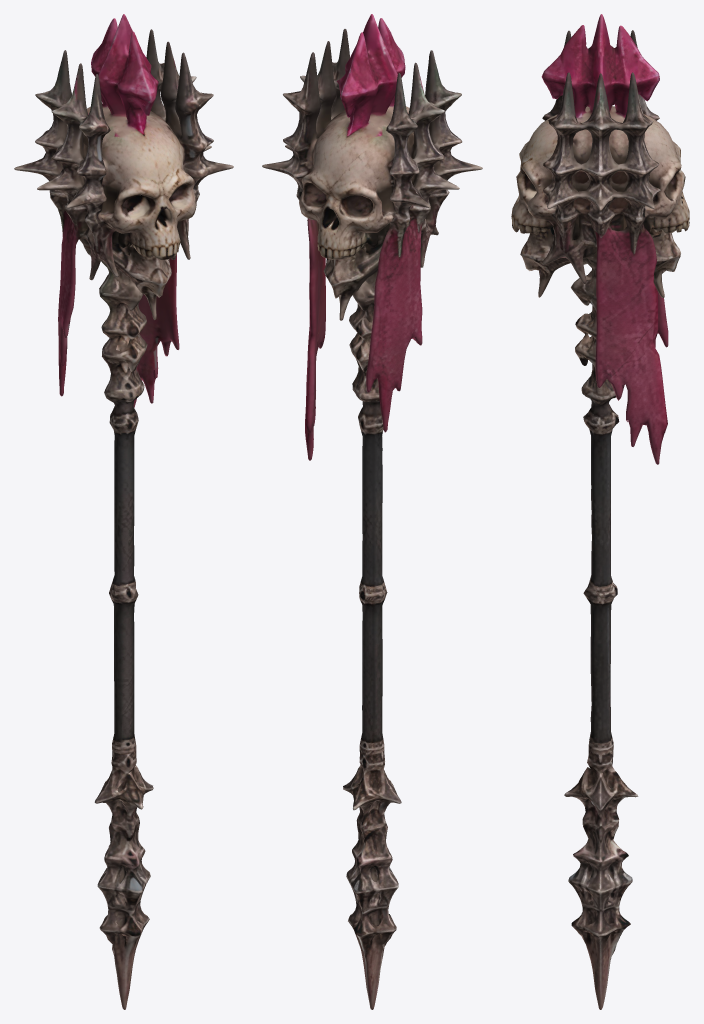
File: commander_weapon.obj
3 renders of one model, left to right at view 1: azimuth 30°, elevation 25°; view 2: azimuth 150°, elevation 25°; view 3: azimuth 270°, elevation 25°, orthographic.
Visible parts, largest first — view 1: commander_weapon; view 2: commander_weapon; view 3: commander_weapon.
Part boxes in pixels (x1=…): commander_weapon: x1=14, y1=14, x2=233, y2=1009; commander_weapon: x1=262, y1=14, x2=482, y2=1009; commander_weapon: x1=511, y1=14, x2=689, y2=1009.
Size of the model in its own units: 0.1803 by 0.9821 by 0.1593.
1 material, 1 textured.
